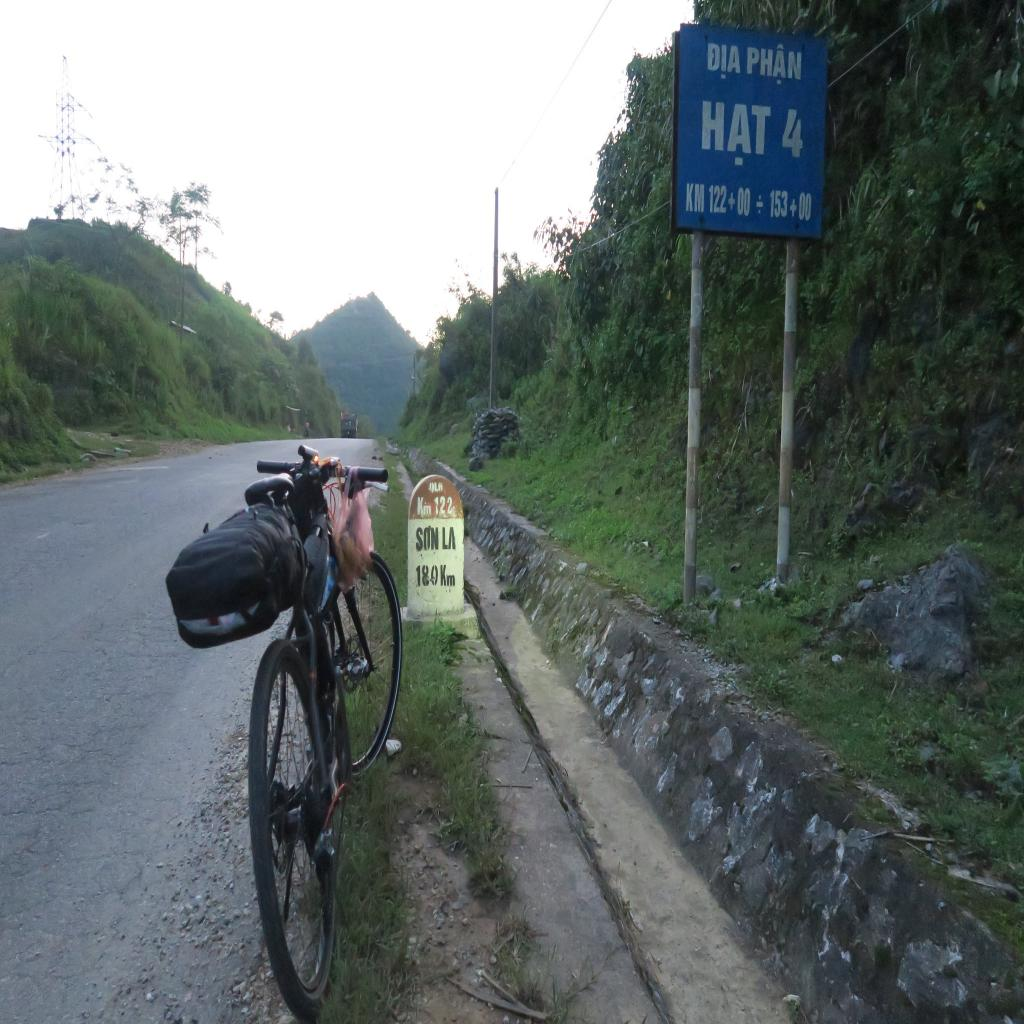text: (700, 98, 774, 170), (745, 41, 805, 93), (706, 38, 742, 83), (778, 107, 806, 162), (765, 188, 791, 225), (684, 179, 708, 218), (413, 523, 439, 553), (736, 182, 754, 224), (710, 182, 730, 219), (796, 188, 814, 228), (415, 560, 439, 589), (438, 522, 458, 552), (432, 496, 456, 518), (414, 496, 432, 516), (428, 480, 444, 496)
